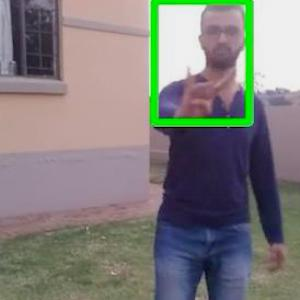takeoff-hand: (174, 54, 238, 128)
